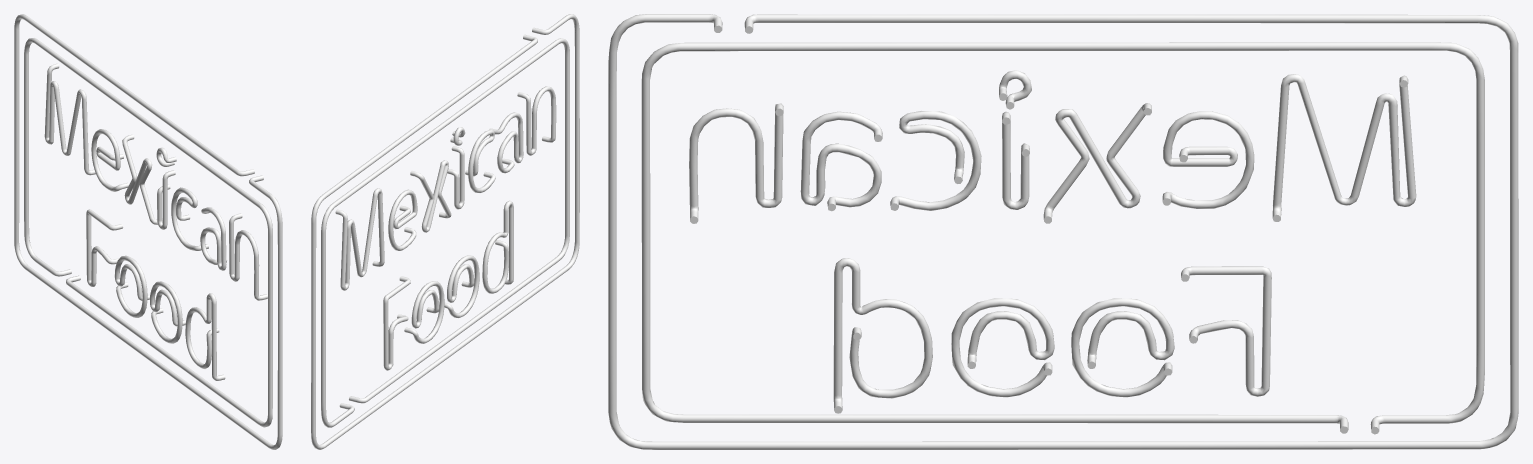
The model's file is SM_LED_mexicanshop_01a.fbx.
The picture shows the model from 3 angles, left to right: view 1: azimuth 30°, elevation 25°; view 2: azimuth 150°, elevation 25°; view 3: azimuth 270°, elevation 25°; orthographic projection. The views are drawn at different scales.
Parts seen in each view (by area): view 1: SM_LED_mexicanshop_01a_LOD0; view 2: SM_LED_mexicanshop_01a_LOD0; view 3: SM_LED_mexicanshop_01a_LOD0.
Part boxes in pixels (bbox=[...]): SM_LED_mexicanshop_01a_LOD0: bbox=[14, 14, 282, 449]; SM_LED_mexicanshop_01a_LOD0: bbox=[311, 14, 579, 449]; SM_LED_mexicanshop_01a_LOD0: bbox=[608, 14, 1518, 449].
Bounding box in the file's own units: 1.81 × 52.78 × 27.84.
